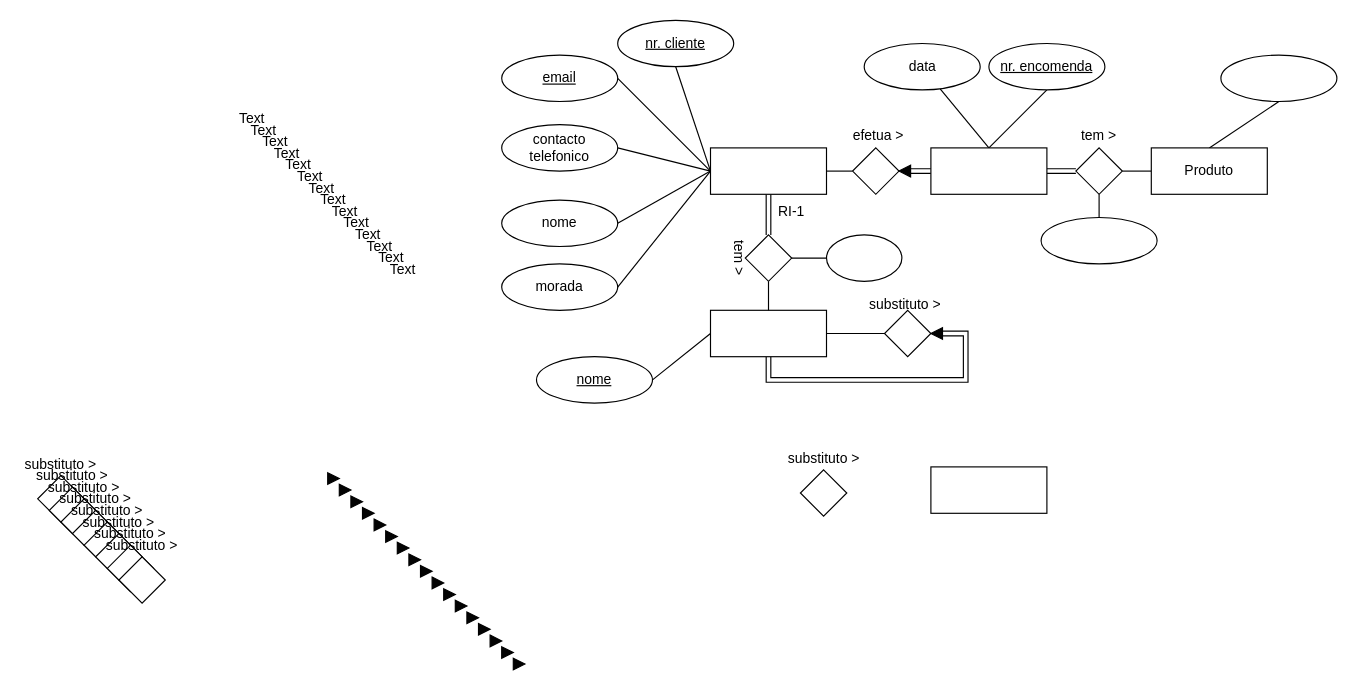
Some shapes in this 1357 by 690 pixel diagram are drawn without their labels. The shapes that lost their labels are listed below. From the top down, each one's centre as x and y in pixels, then its label:
the point at 1278,78: key
the point at 767,170: Cliente
the point at 988,170: Encomenda
the point at 863,257: token
the point at 1098,240: quantidade
the point at 767,333: Método de Pagamento
the point at 988,489: Venda
